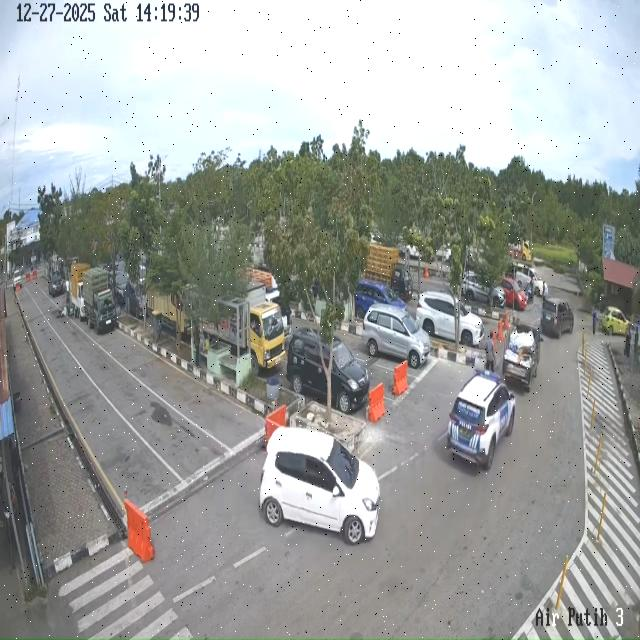Golongan IVA: (259, 427, 380, 545), (286, 327, 370, 414), (447, 371, 515, 470), (362, 304, 430, 369), (416, 292, 484, 347), (354, 279, 406, 320), (462, 271, 506, 307), (508, 262, 548, 297), (541, 298, 574, 338), (599, 306, 631, 336), (500, 277, 527, 311), (48, 271, 65, 297)
Golongan IVB: (503, 325, 543, 391)
Golongan VB: (201, 281, 286, 374), (364, 243, 413, 300), (83, 267, 117, 334), (70, 263, 90, 321)
